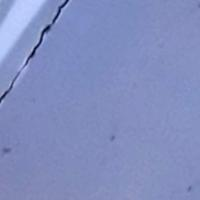crack: (2, 0, 73, 111)
